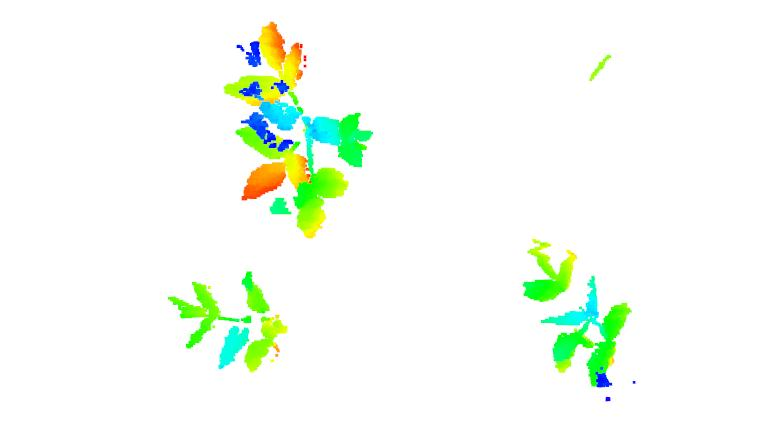mungbean: (226, 20, 374, 235), (520, 237, 633, 385), (165, 270, 290, 372)
